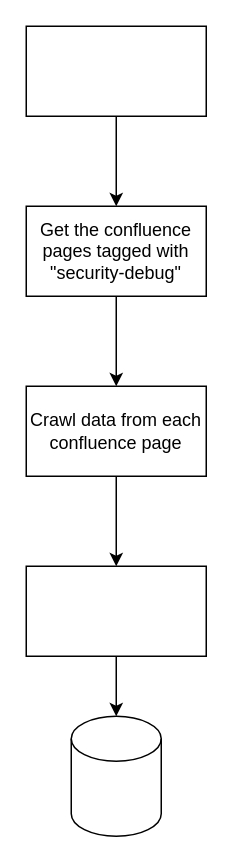
This 233x863 diagram has some shape labels left out. The shapes that lost their labels are listed below. From the top down, each one's centre as x and y in pixels, then its label:
At point (115, 70): "Connect to confluence web site".
At point (115, 610): "Check if data is valid. If yes, save into database".
